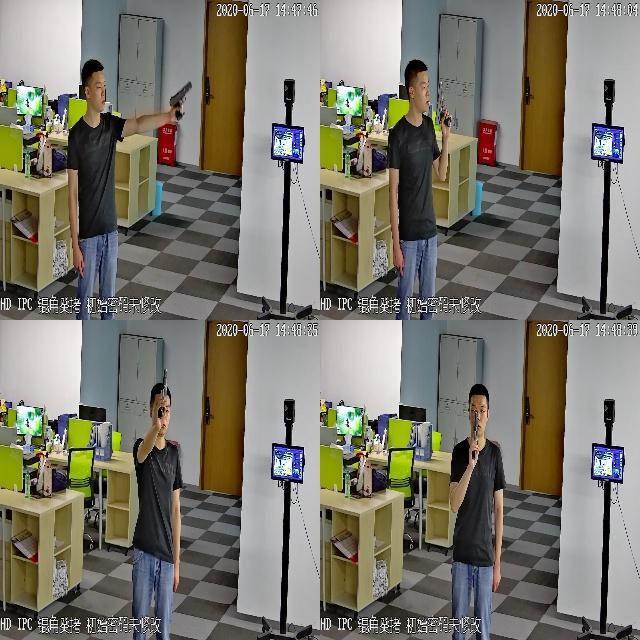gun-knife-thesis - v11 Yolov5 augmented: (166, 77, 191, 118), (432, 79, 450, 127), (156, 367, 167, 418), (470, 407, 480, 461)
